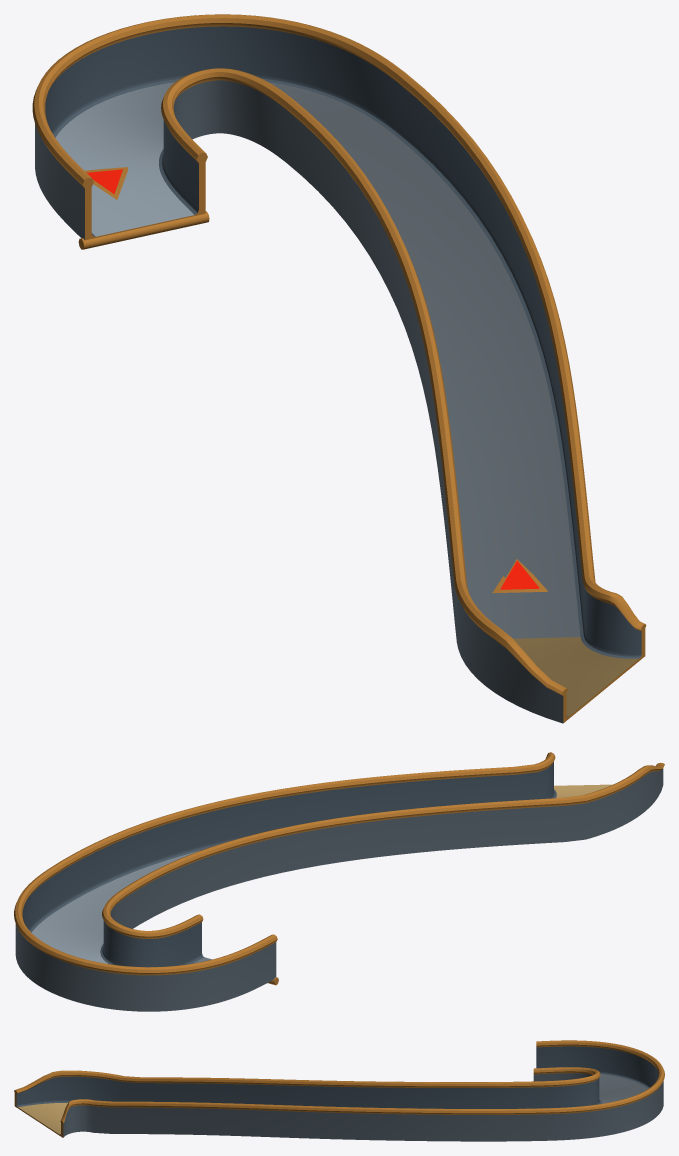
The model's file is ramp-shortR.dae.
3 renders of one model, top to bottom at view 1: azimuth 30°, elevation 25°; view 2: azimuth 150°, elevation 25°; view 3: azimuth 270°, elevation 25°, orthographic. The views are drawn at different scales.
Visible parts, largest first — view 1: channel_floor, channel_liner, accent, channel_shell, channel_entry, channel_arrow; view 2: channel_shell, channel_liner, accent, channel_floor, channel_entry; view 3: channel_shell, channel_liner, accent, channel_floor, channel_entry.
Boxes of the visible parts, bbox=[...] form: channel_floor: bbox=[55, 82, 580, 638]; channel_liner: bbox=[45, 26, 641, 716]; accent: bbox=[32, 14, 646, 722]; channel_shell: bbox=[35, 80, 563, 723]; channel_entry: bbox=[513, 637, 638, 716]; channel_arrow: bbox=[87, 169, 539, 589]; channel_shell: bbox=[15, 768, 663, 1011]; channel_liner: bbox=[22, 762, 556, 967]; accent: bbox=[14, 752, 664, 985]; channel_floor: bbox=[31, 851, 212, 963]; channel_entry: bbox=[554, 784, 612, 798]; channel_shell: bbox=[63, 1073, 663, 1141]; channel_liner: bbox=[16, 1046, 658, 1134]; accent: bbox=[14, 1040, 664, 1137]; channel_floor: bbox=[599, 1074, 648, 1103]; channel_entry: bbox=[18, 1103, 67, 1134].
Size of the model in its own units: 0.3396 by 0.145 by 0.9702.
